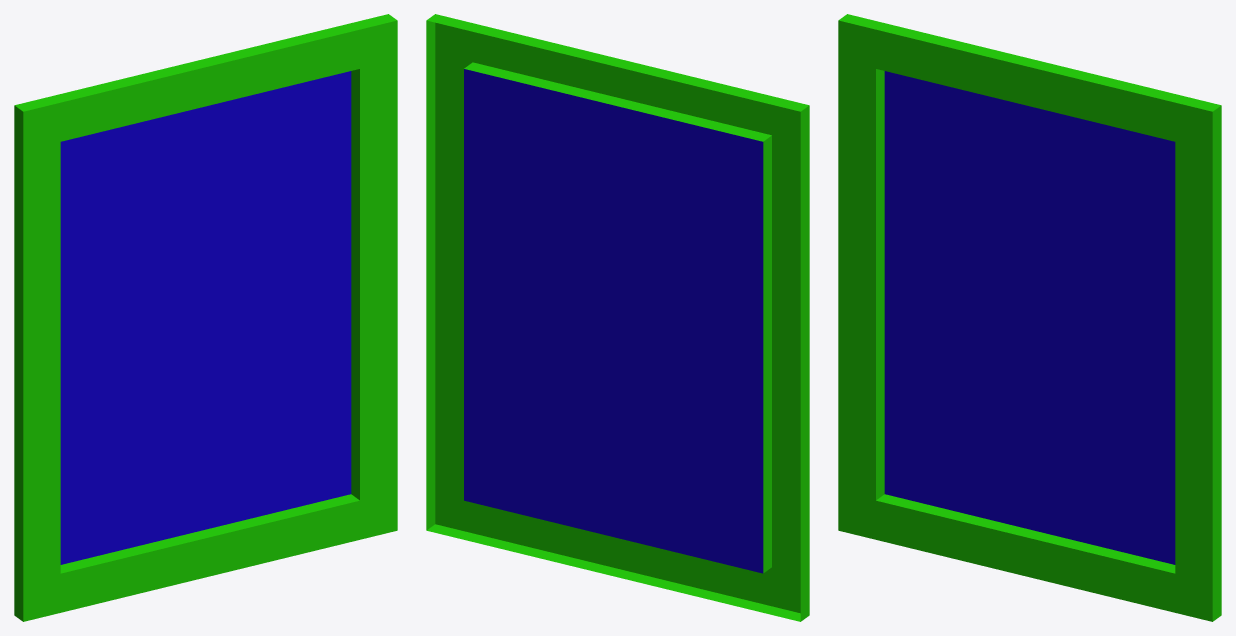
The model's file is Menu2.fbx.
3 renders of one model, left to right at view 1: azimuth 30°, elevation 25°; view 2: azimuth 150°, elevation 25°; view 3: azimuth 330°, elevation 25°, orthographic.
Parts seen in each view (by area): view 1: Menu; view 2: Menu; view 3: Menu.
Boxes of the visible parts, bbox=[...] form: Menu: bbox=[14, 14, 397, 621]; Menu: bbox=[426, 14, 809, 621]; Menu: bbox=[838, 14, 1221, 621].
Size of the model in its own units: 0.8587 by 1.12 by 0.0351.
